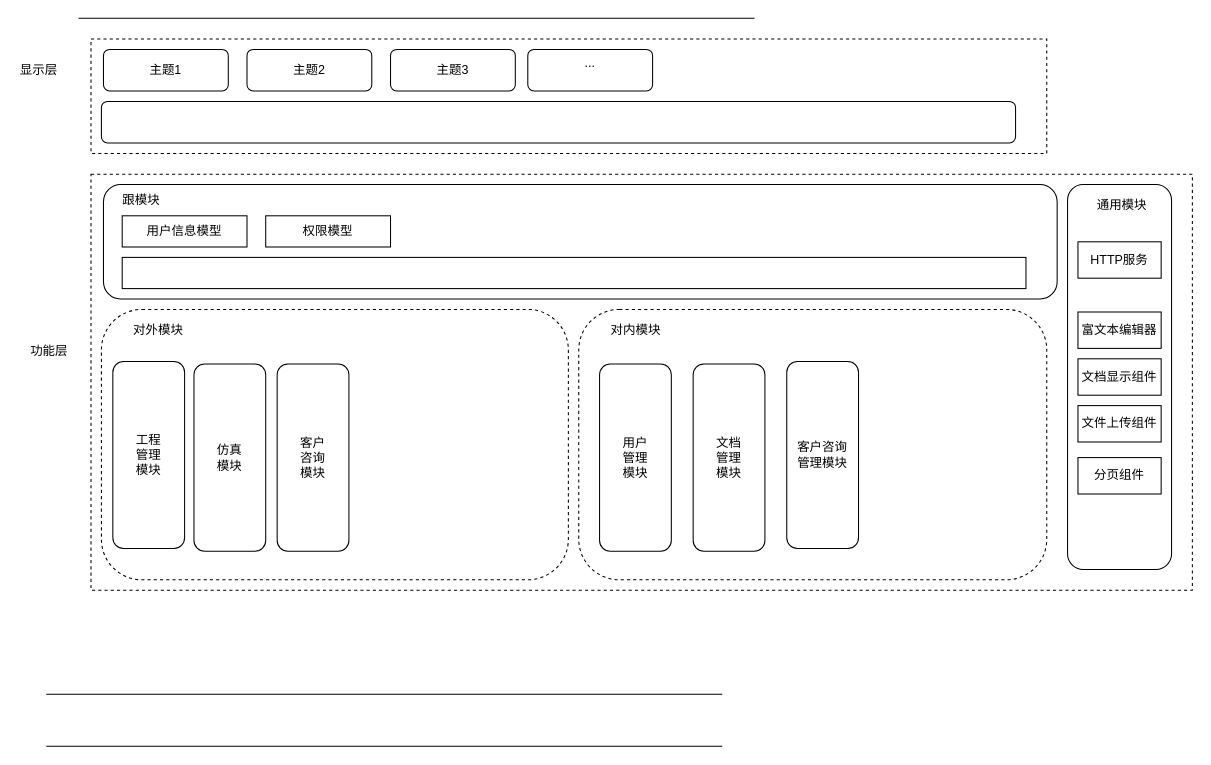
The diagram is 1211 pixels wide and 765 high, and some of its shapes have lost their labels. Each missing label, with the centre of its shape:
"基准样式" belongs at (558,121).
"跟组件" belongs at (573,272).
